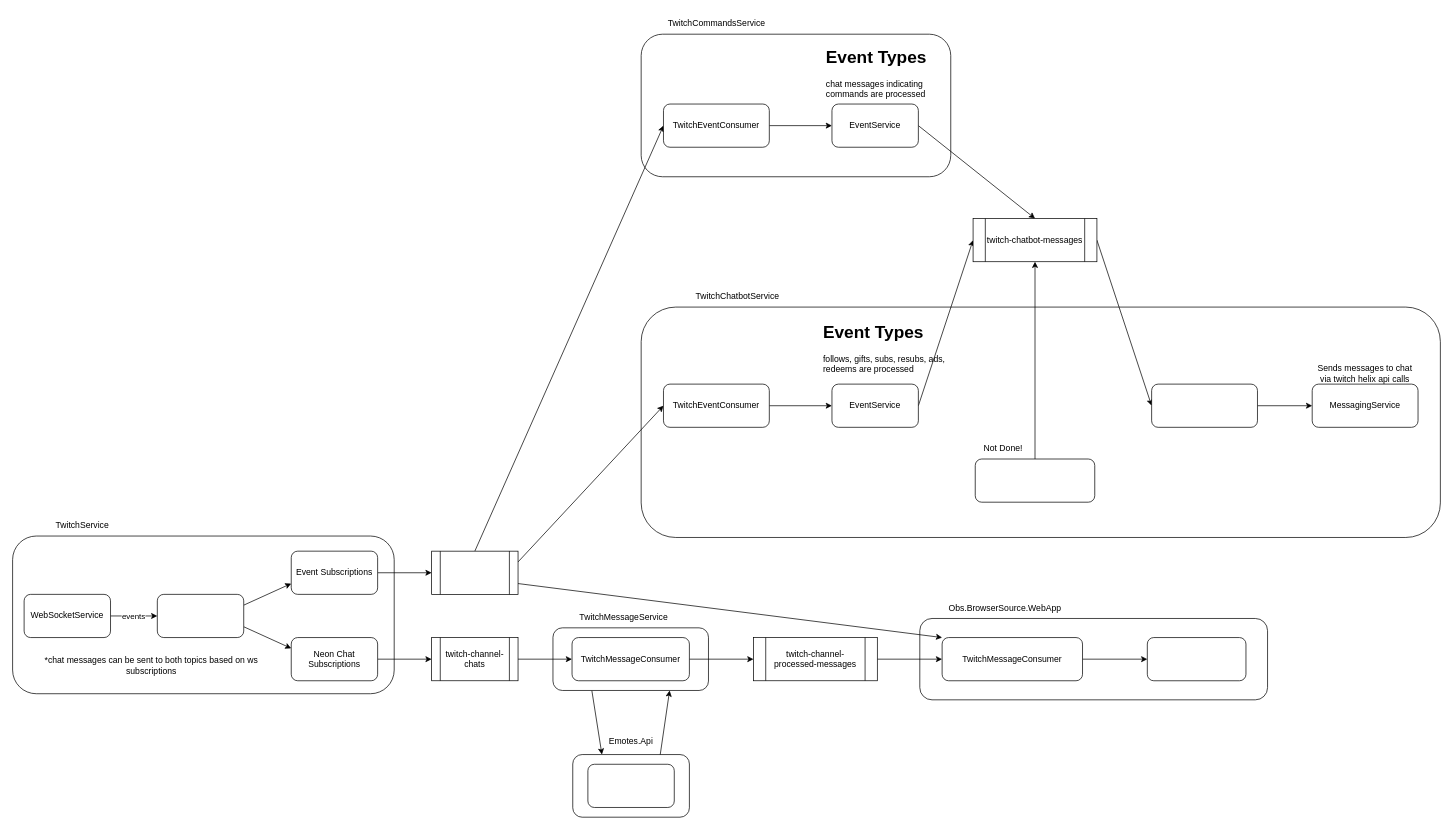
Image size: 1453x829. Some labels were removed from this diagram. The box of each missing label's shape, as (x1, y1, x2, y2) in pixels:
Emotes Controller: (587, 764, 674, 807)
SignalR to Connected Users: (1147, 637, 1246, 681)
twitch-channel-events: (431, 550, 518, 594)
TwitchChatbotConsumer: (1151, 383, 1257, 427)
TwitchScheduledMessages: (975, 458, 1095, 502)
WebSocketManager: (157, 594, 244, 638)
